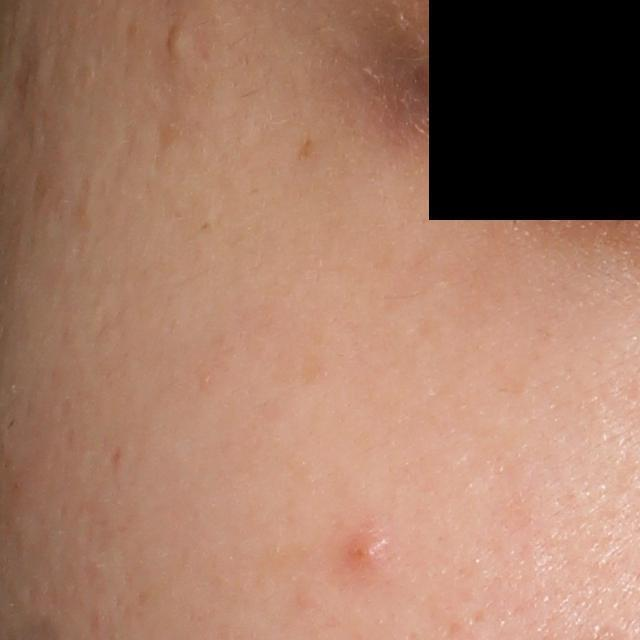comedo: (164, 28, 191, 62)
melasma: (299, 134, 318, 157)
papule: (342, 527, 392, 569)
